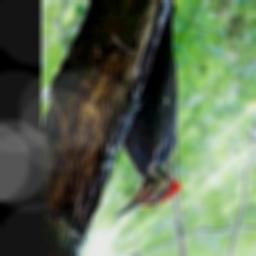Woodpecker: (112, 1, 183, 220)
